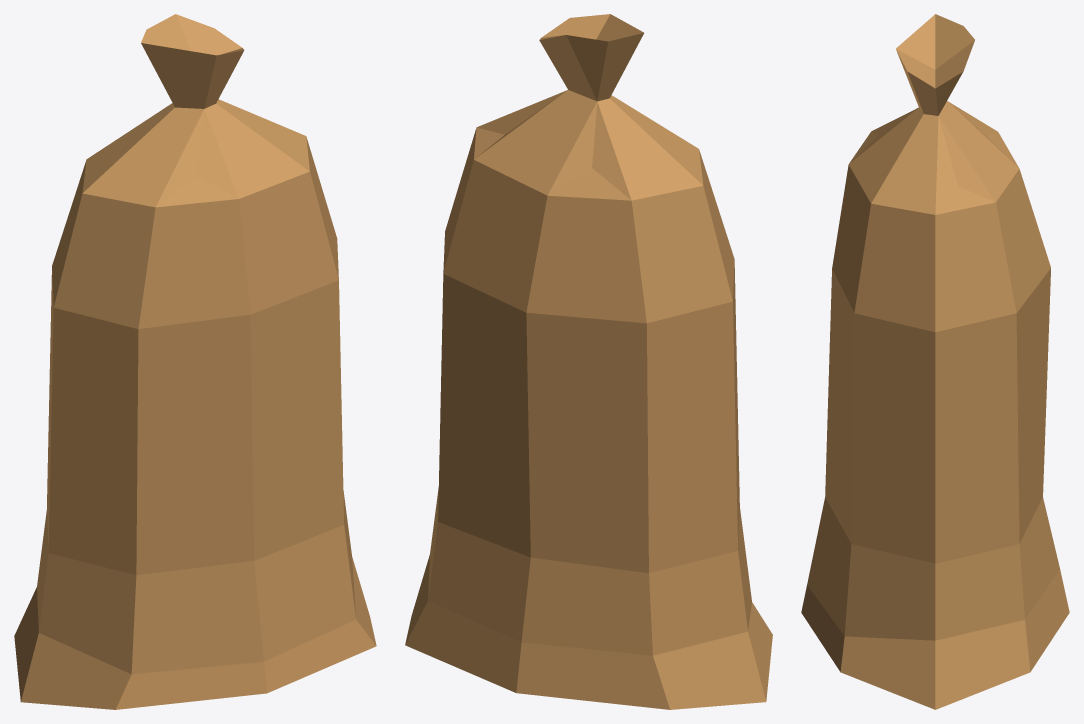
File: sandbag.glb
3 renders of one model, left to right at view 1: azimuth 30°, elevation 25°; view 2: azimuth 150°, elevation 25°; view 3: azimuth 270°, elevation 25°, orthographic. The views are drawn at different scales.
Parts seen in each view (by area): view 1: sandbag; view 2: sandbag; view 3: sandbag.
Boxes of the visible parts, <box> form: sandbag: <box>14,14,376,709</box>; sandbag: <box>405,14,772,709</box>; sandbag: <box>801,14,1069,709</box>.
Size of the model in its own units: 0.7307 by 1.27 by 0.5183.
Materials: 1 (1 with a texture image).
